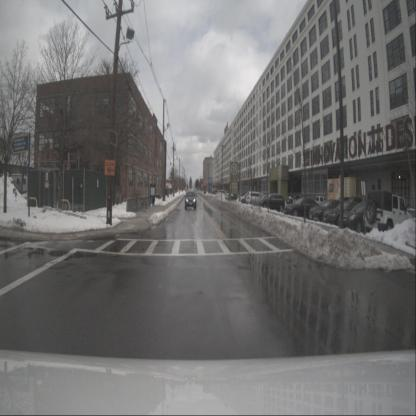vehicle-car: (363, 189, 413, 241), (340, 202, 384, 234), (322, 202, 367, 226), (308, 199, 348, 223), (283, 197, 323, 218), (257, 193, 285, 212), (246, 191, 265, 206), (238, 192, 256, 204), (185, 191, 196, 210)
vehicle-truck: (309, 196, 327, 208)
